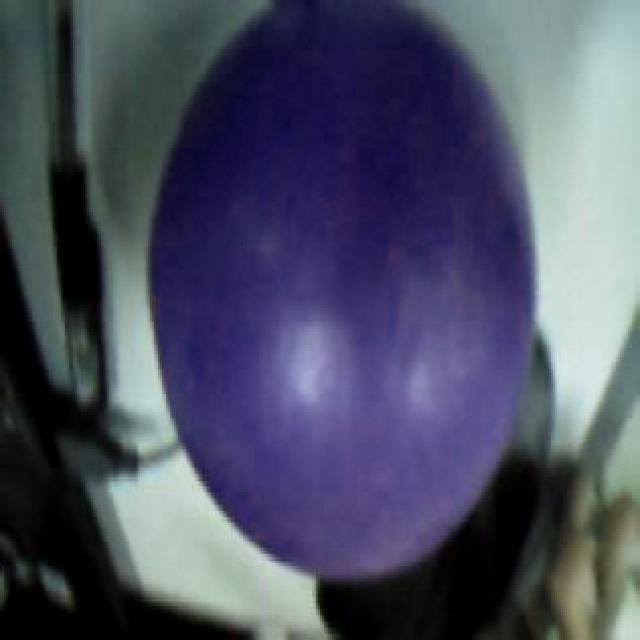BallPurple: (150, 1, 536, 579)
